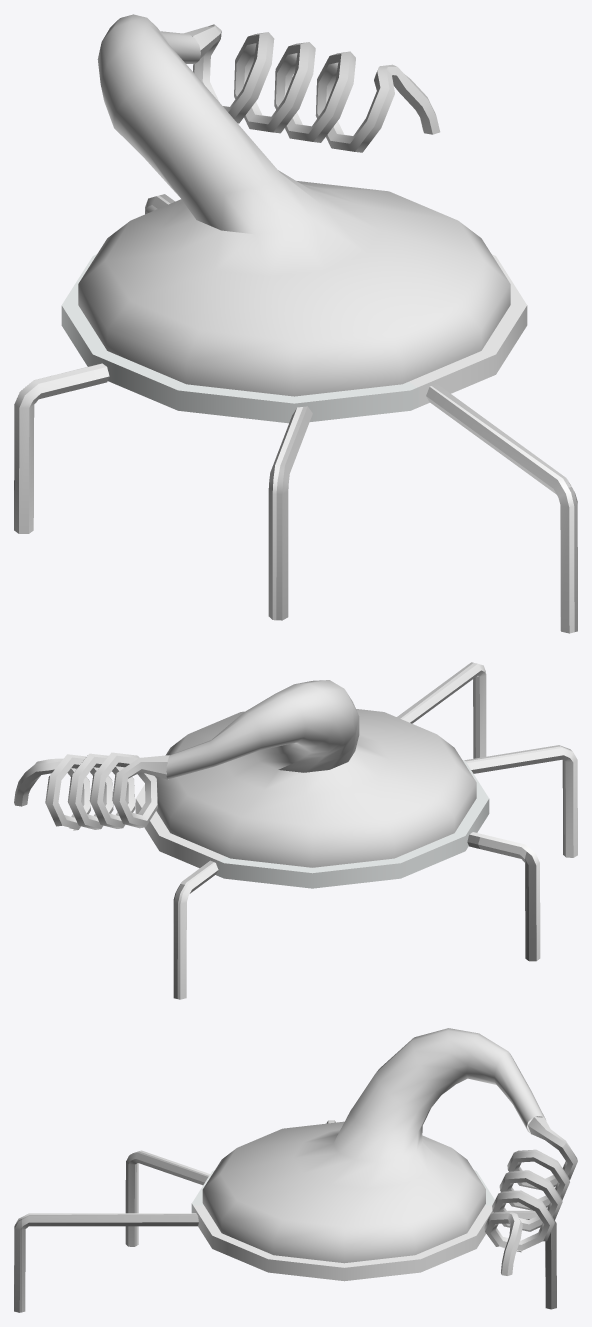
The model's file is Alchemist_device_177x00.gltf.
The picture shows the model from 3 angles, top to bottom: view 1: azimuth 30°, elevation 25°; view 2: azimuth 150°, elevation 25°; view 3: azimuth 270°, elevation 25°; orthographic projection. The views are drawn at different scales.
Parts seen in each view (by area): view 1: Alchemist_device_177x00; view 2: Alchemist_device_177x00; view 3: Alchemist_device_177x00.
Boxes of the visible parts, left/top/right/bottom form: Alchemist_device_177x00: left=14, top=14, right=577, bottom=633; Alchemist_device_177x00: left=14, top=662, right=577, bottom=999; Alchemist_device_177x00: left=14, top=1028, right=577, bottom=1312.
Size of the model in its own units: 2.71 by 1.76 by 3.63.
2 materials, 1 textured.
